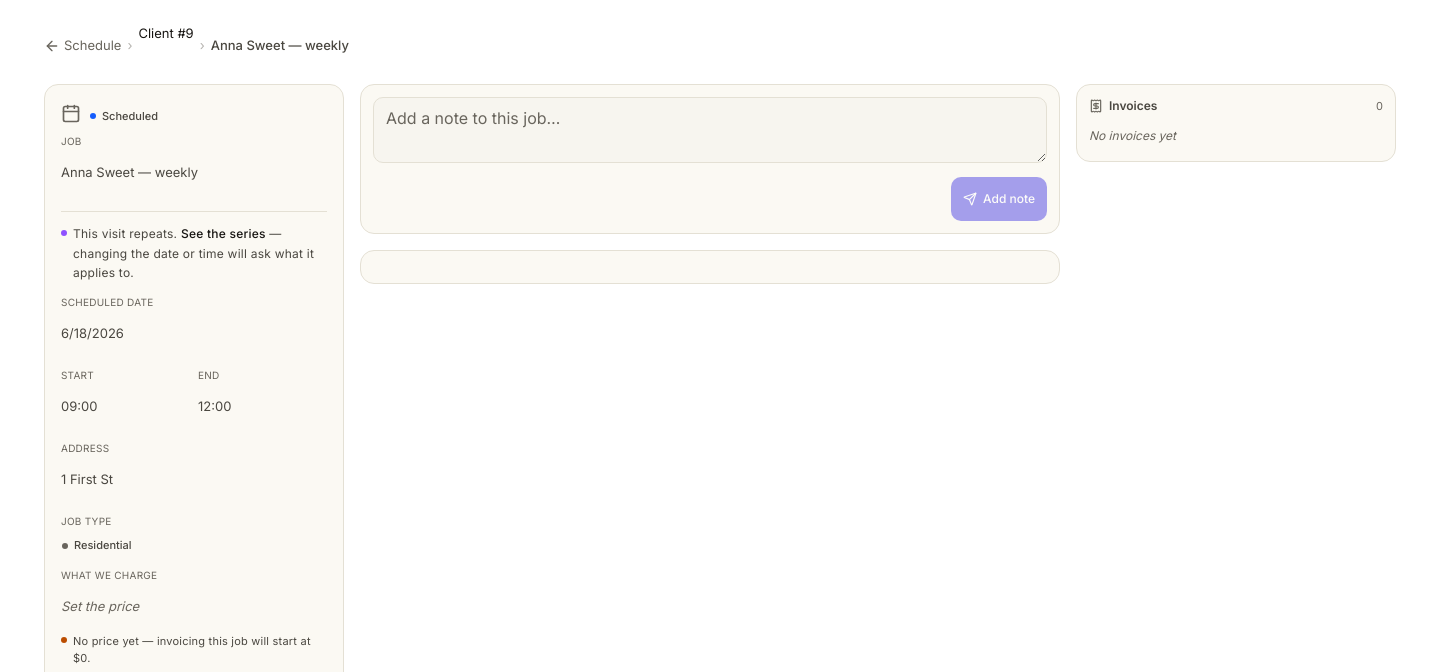
Test case: JobDetail — a visit that belongs to a series › offers "Reschedule anyway" when the target date has a conflict, then pushes it through
Expected: the text "This visit repeats" is shown, [73,226,177,241]
Click the button "6/18/2026" at (92, 333), box [57,312,323,356]
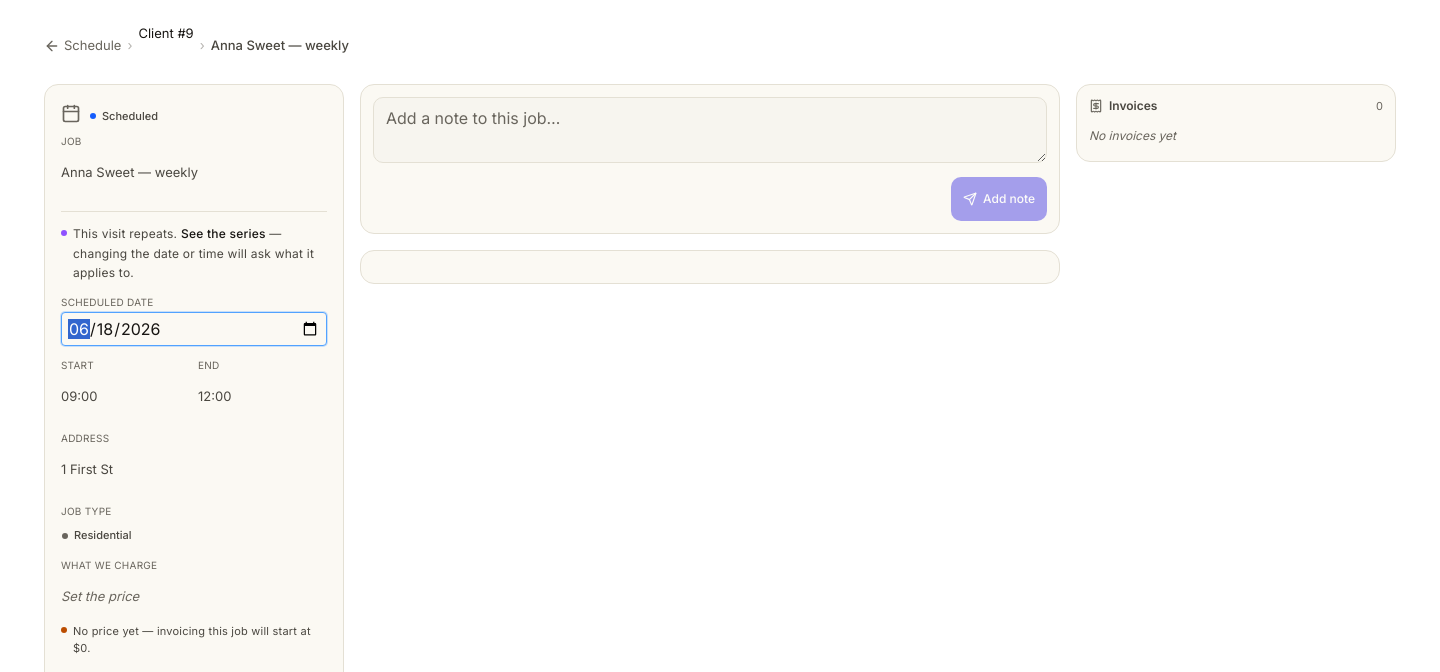
Type "2026-10-30" into the date field at (194, 328), box [61,312,327,346]
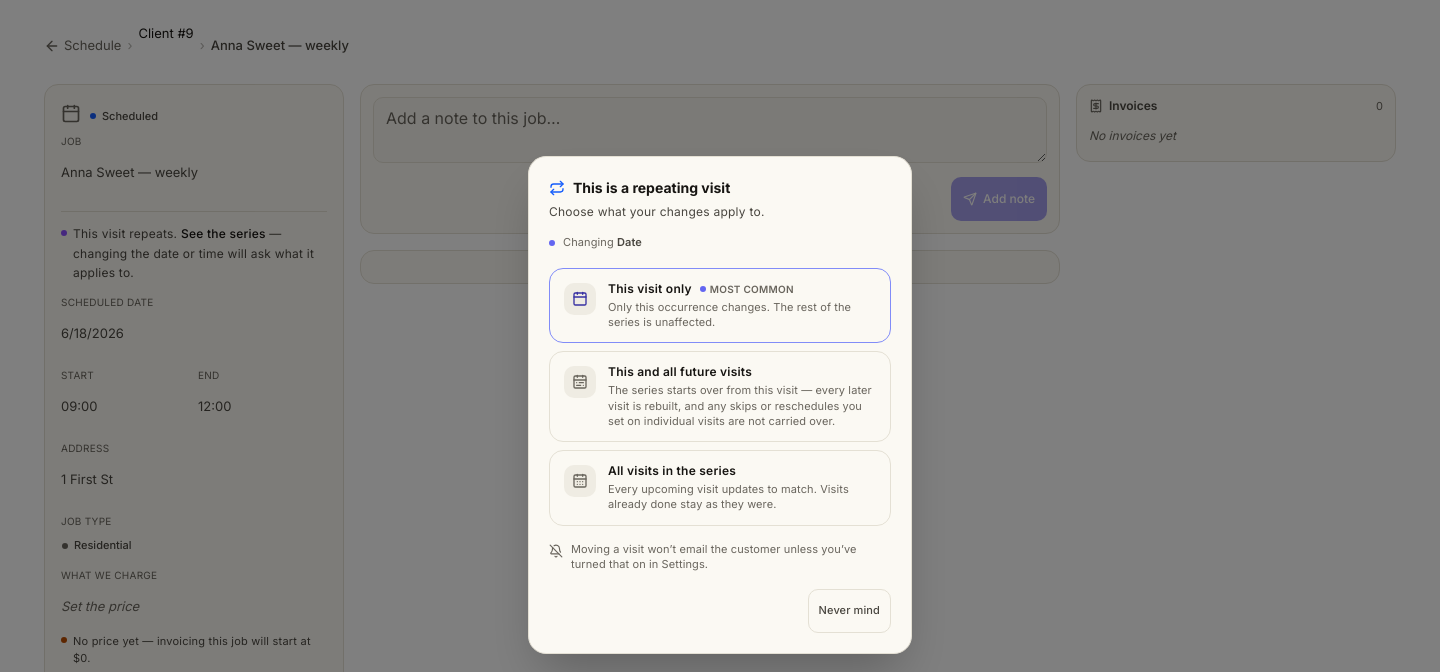
Click the button "This visit only" at (720, 306), box [549,268,891,343]
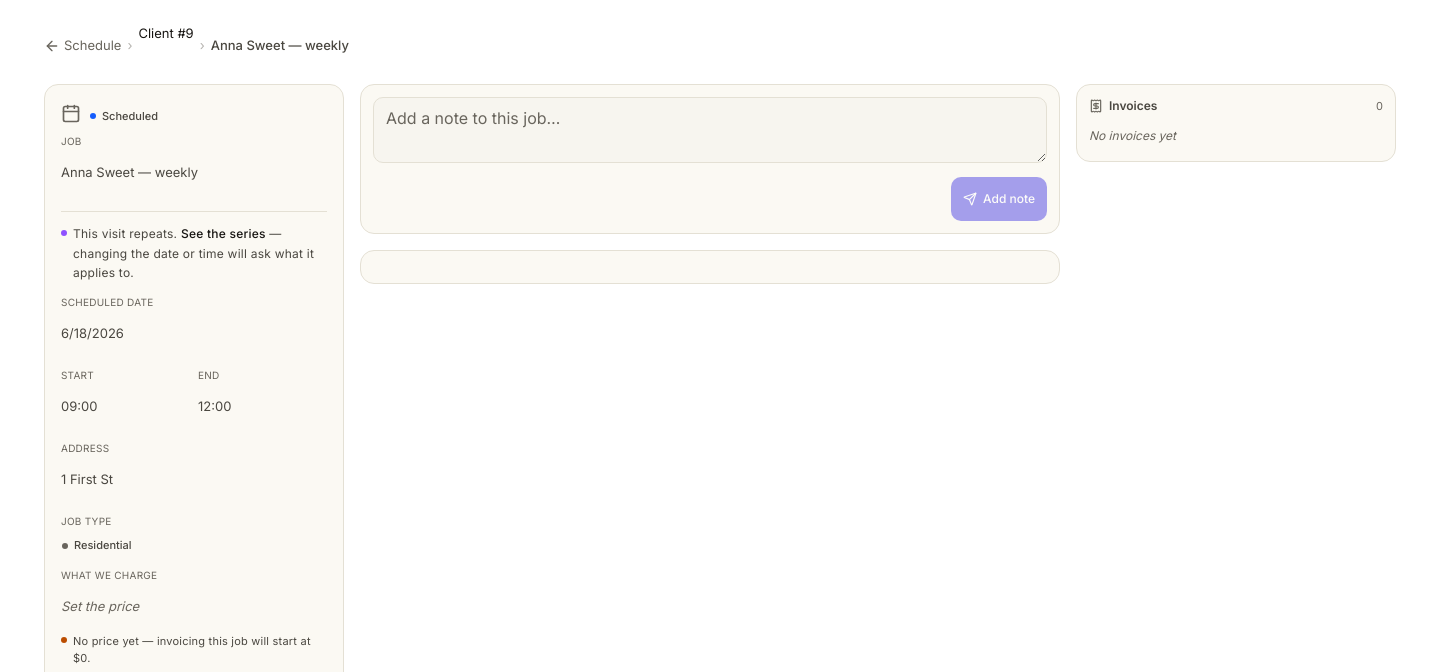
Result: the heading "This is a repeating visit" is gone
